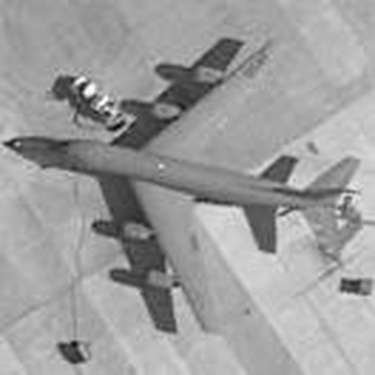airplane: (31, 28, 366, 336)
